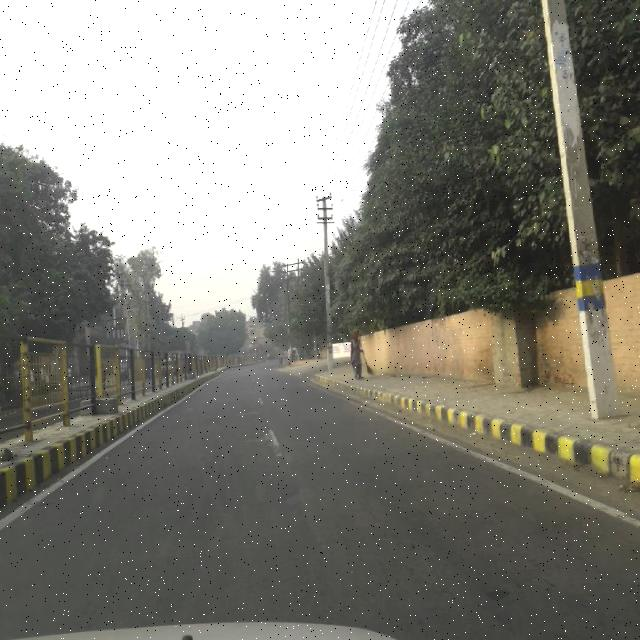D44: (258, 418, 290, 458)
